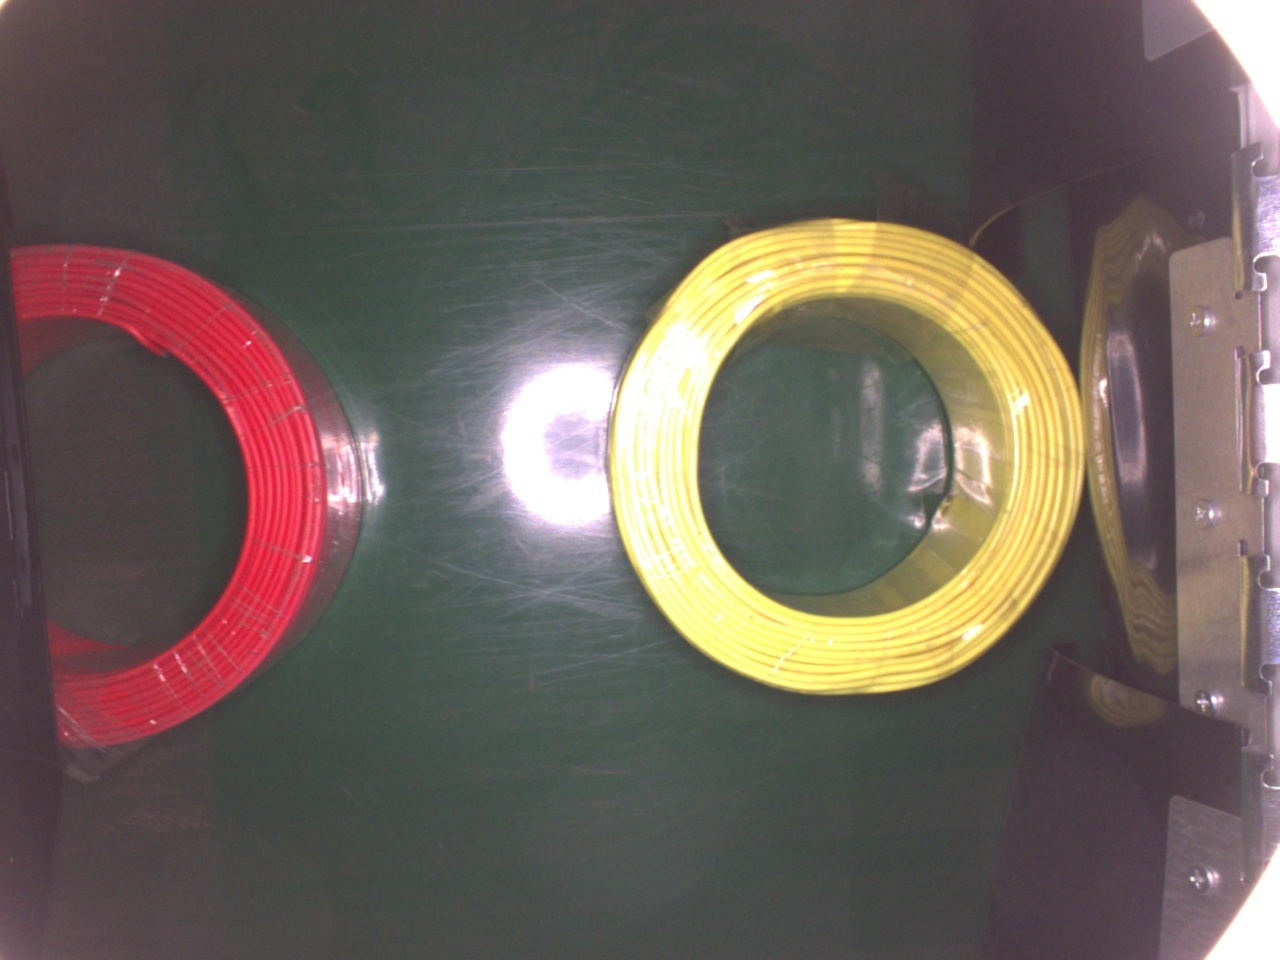red: (0, 234, 367, 769)
yellow: (600, 212, 1084, 699)
